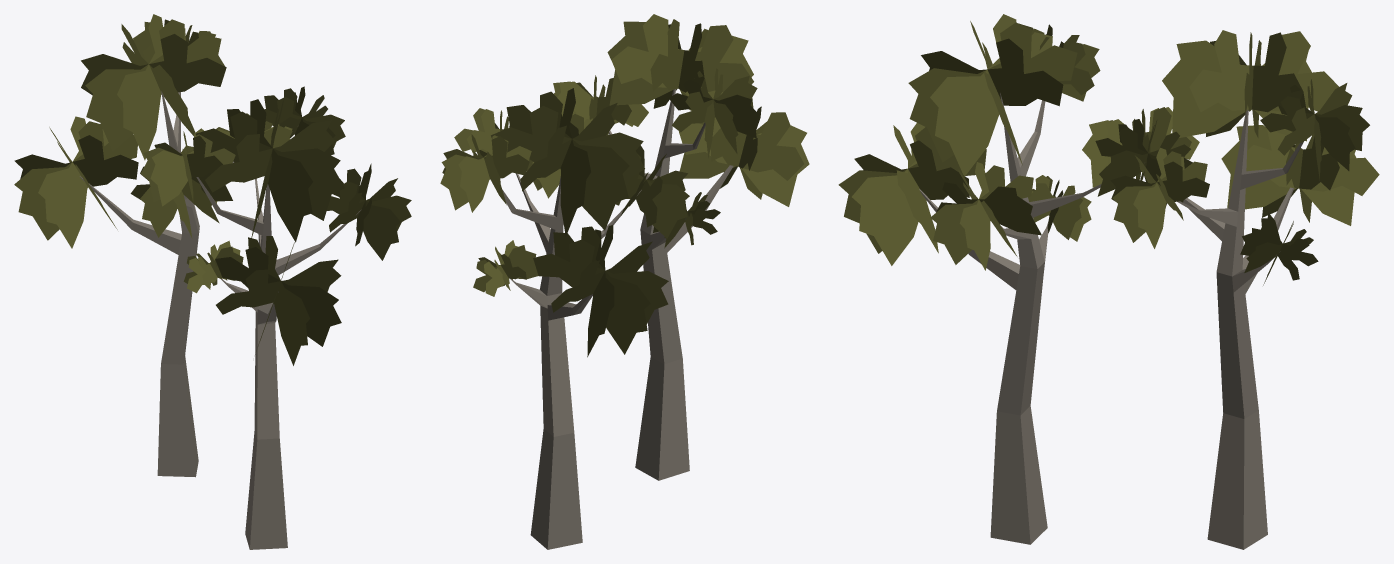
File: Tree15.fbx
3 renders of one model, left to right at view 1: azimuth 30°, elevation 25°; view 2: azimuth 150°, elevation 25°; view 3: azimuth 270°, elevation 25°, orthographic. The views are drawn at different scales.
Parts seen in each view (by area): view 1: Flat_half_tree.015; view 2: Flat_half_tree.015; view 3: Flat_half_tree.015.
Boxes of the visible parts, box(x1,y1,x2,y2) form: Flat_half_tree.015: box(14, 14, 411, 549); Flat_half_tree.015: box(440, 14, 809, 549); Flat_half_tree.015: box(838, 14, 1379, 549).
Size of the model in its own units: 1.9 by 3.19 by 3.1.
